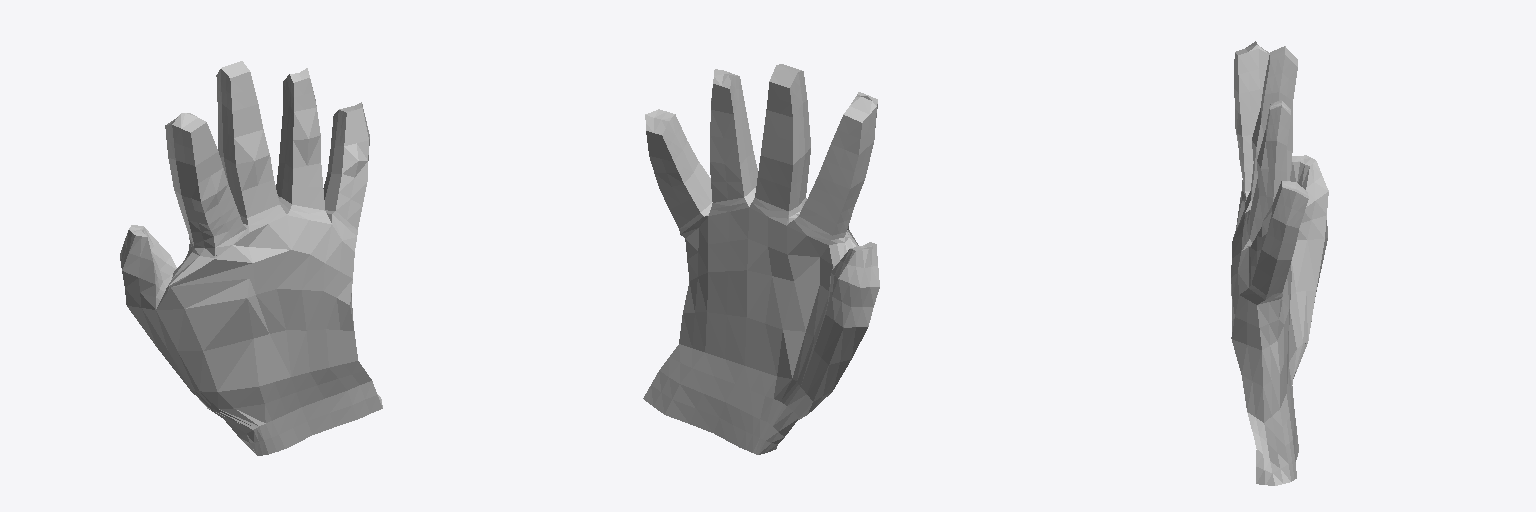
The model's file is texture_test.obj.
3 renders of one model, left to right at view 1: azimuth 30°, elevation 25°; view 2: azimuth 150°, elevation 25°; view 3: azimuth 270°, elevation 25°, orthographic.
Visible parts, largest first — view 1: Hand; view 2: Hand; view 3: Hand.
Part boxes in pixels (x1,y1,x2,y2): Hand: (120, 61, 382, 455); Hand: (643, 64, 879, 454); Hand: (1231, 41, 1328, 485).
Bounding box in the file's own units: 3.27 × 4.97 × 1.12.